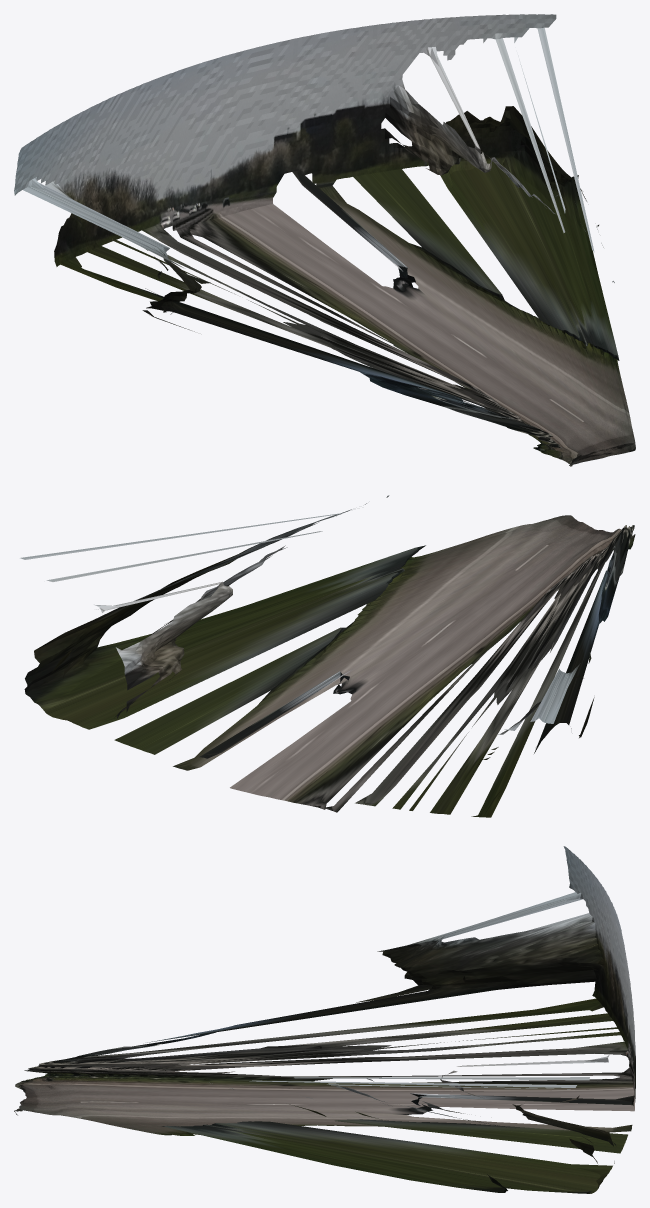
The picture shows the model from 3 angles, top to bottom: view 1: azimuth 30°, elevation 25°; view 2: azimuth 150°, elevation 25°; view 3: azimuth 270°, elevation 25°; orthographic projection. The views are drawn at different scales.
Parts seen in each view (by area): view 1: defaultobject; view 2: defaultobject; view 3: defaultobject.
Boxes of the visible parts, x1,y1,x2,y2 form: defaultobject: (14, 14, 635, 466); defaultobject: (20, 495, 635, 817); defaultobject: (14, 846, 635, 1193).
Bounding box in the file's own units: 39.91 × 12.05 × 44.49.
1 material, 1 textured.
